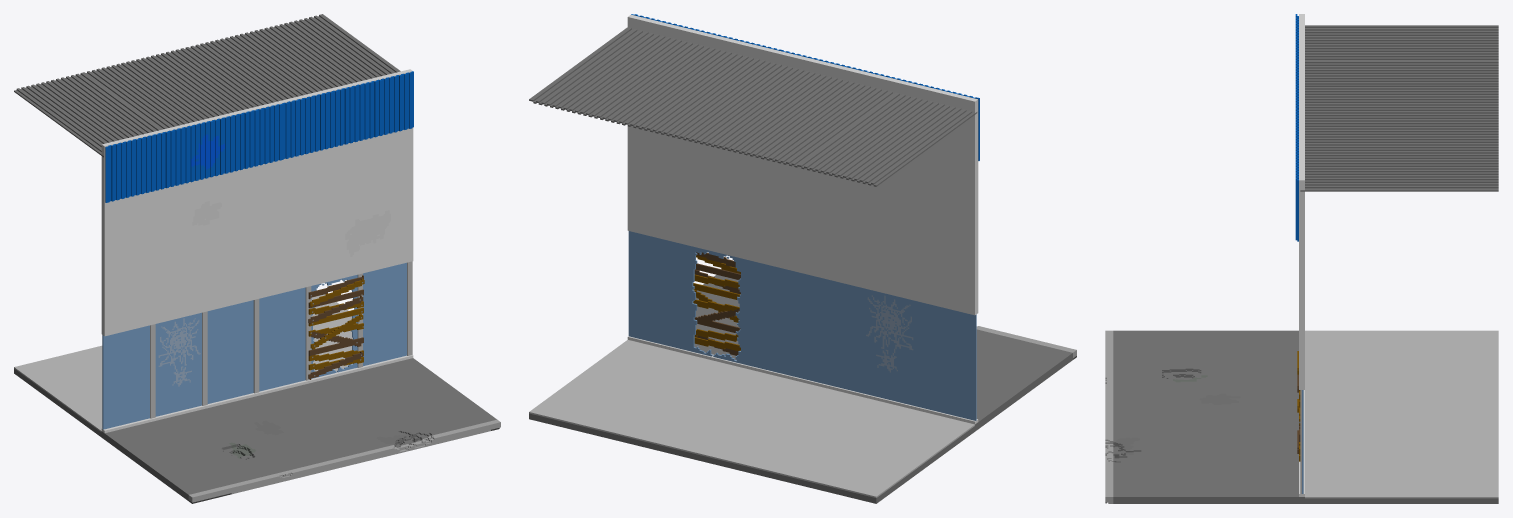
File: shop_v1.vox.obj
The picture shows the model from 3 angles, left to right: view 1: azimuth 30°, elevation 25°; view 2: azimuth 150°, elevation 25°; view 3: azimuth 270°, elevation 25°; orthographic projection. The views are drawn at different scales.
Bounding box in the file's own units: 25 × 22.7 × 25.
Materials: 1 (1 with a texture image).
